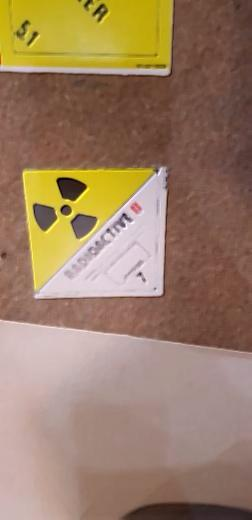oxidizer: (1, 1, 174, 77)
radioactive: (23, 168, 168, 299)
